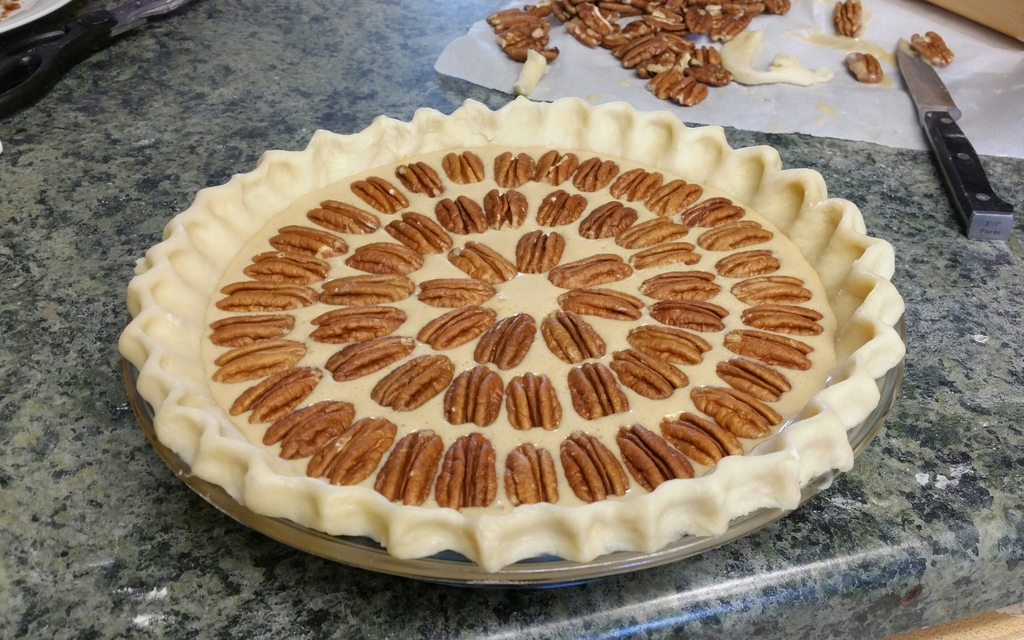kitchen knife: (895, 36, 1014, 240)
